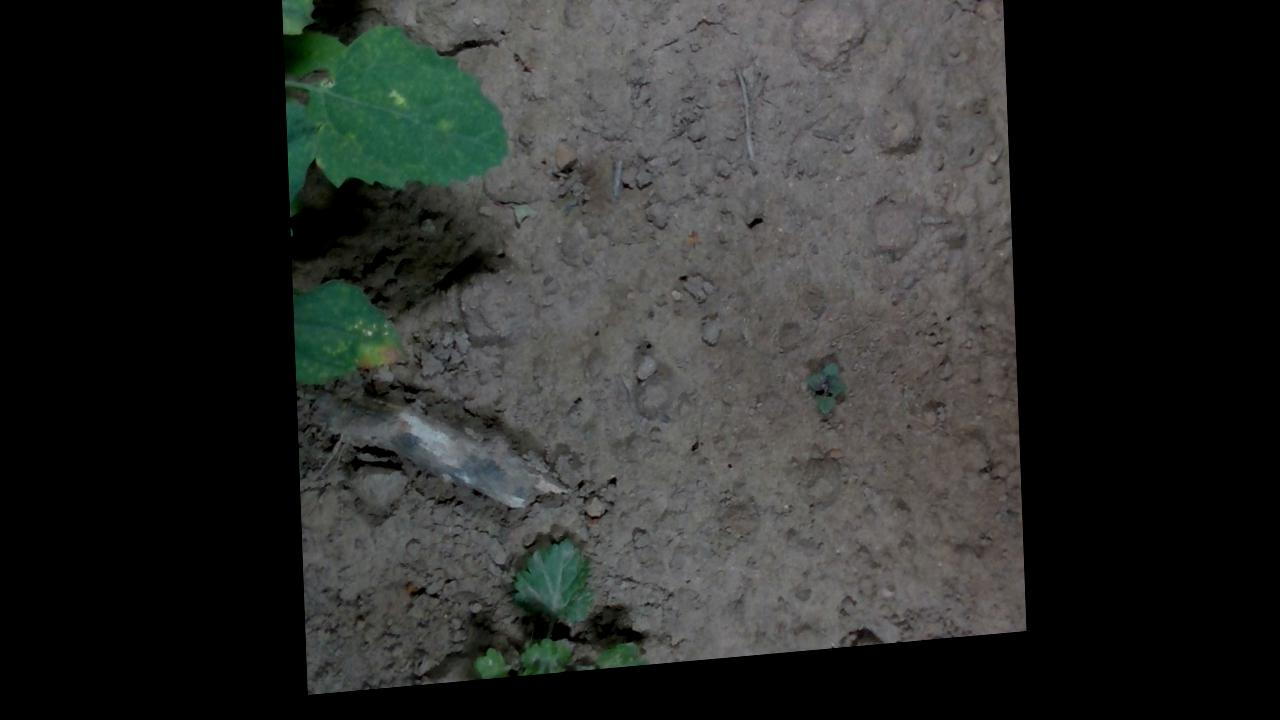weed: (795, 372, 849, 433)
